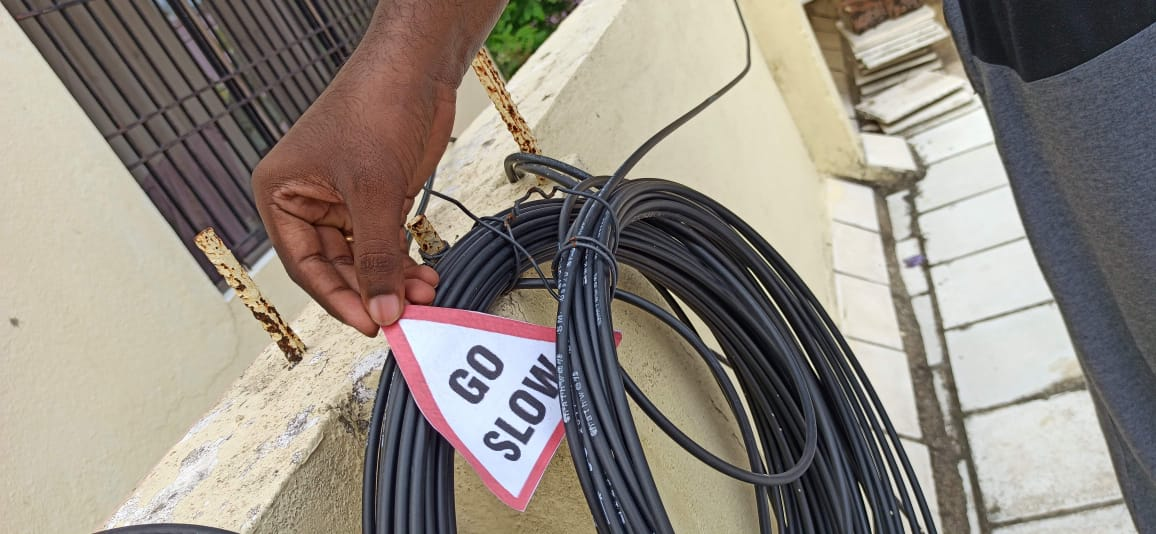GO SLOW: (360, 283, 630, 504)
